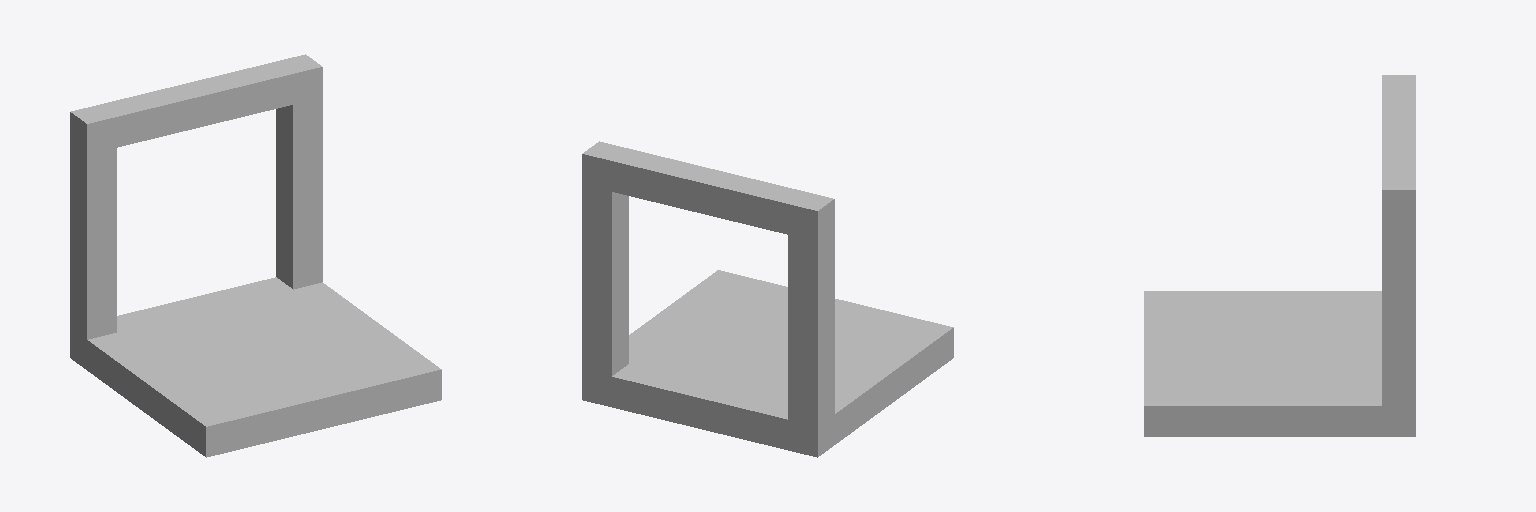
File: BigDoor.obj
3 renders of one model, left to right at view 1: azimuth 30°, elevation 25°; view 2: azimuth 150°, elevation 25°; view 3: azimuth 270°, elevation 25°, orthographic.
Visible parts, largest first — view 1: BigDoor_Cube.012; view 2: BigDoor_Cube.012; view 3: BigDoor_Cube.012.
Boxes of the visible parts, x1,y1,x2,y2 form: BigDoor_Cube.012: [70, 54, 441, 457]; BigDoor_Cube.012: [582, 141, 953, 457]; BigDoor_Cube.012: [1144, 75, 1415, 436].
Bounding box in the file's own units: 2 × 2 × 2.